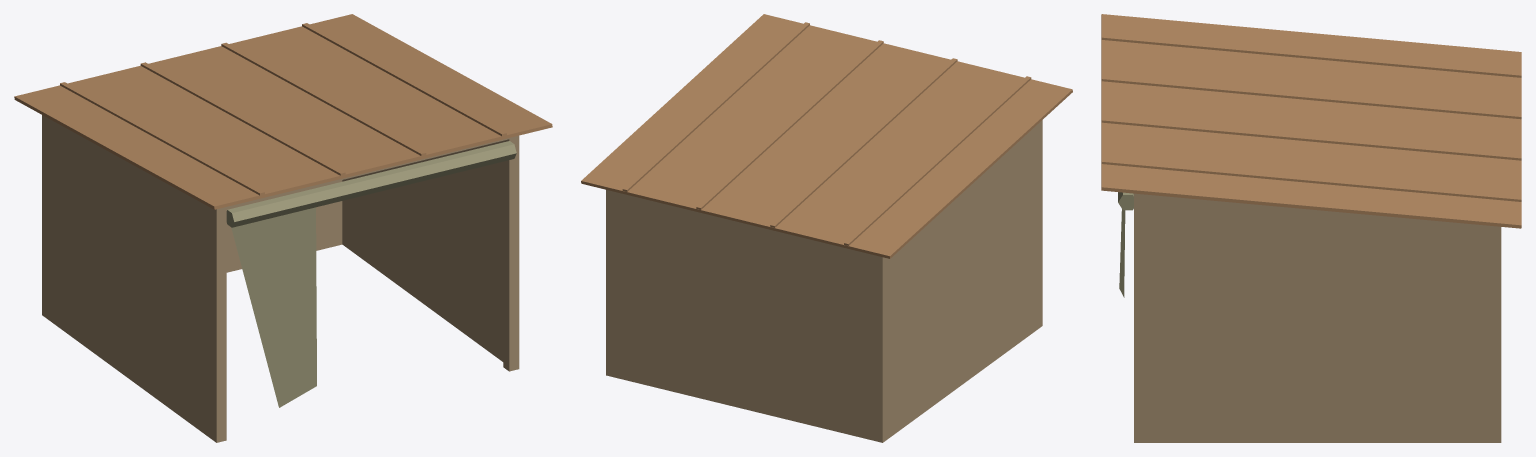
File: shack.glb
3 views of the same model, side by side, from view 1: azimuth 30°, elevation 25°; view 2: azimuth 150°, elevation 25°; view 3: azimuth 270°, elevation 25° (orthographic). The views are drawn at different scales.
Visible parts, largest first — view 1: walls, roof, tarp; view 2: walls, roof; view 3: walls, roof, tarp.
Boxes of the visible parts, x1,y1,x2,y2 form: walls: (42,115,519,442); roof: (14,14,552,209); tarp: (226,141,516,407); walls: (606,120,1042,442); roof: (581,14,1072,258); walls: (1134,193,1501,442); roof: (1101,14,1521,228); tarp: (1118,192,1133,297).
Bounding box in the file's own units: 3.35 × 2.41 × 3.44.
